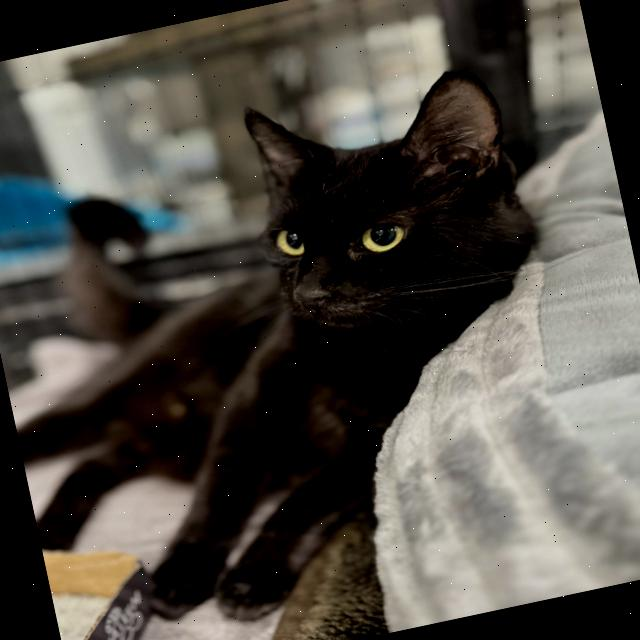bombay_cat: (209, 32, 559, 378)
